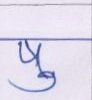u_matra: (10, 68, 60, 94)
